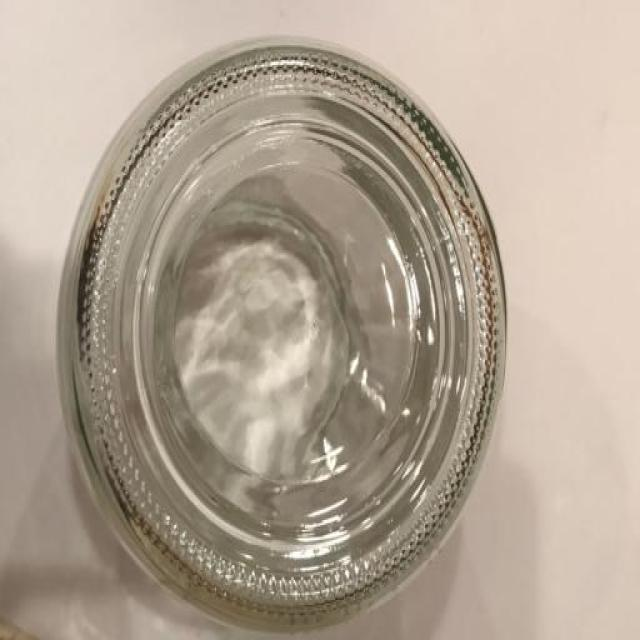glass: (63, 47, 510, 618)
